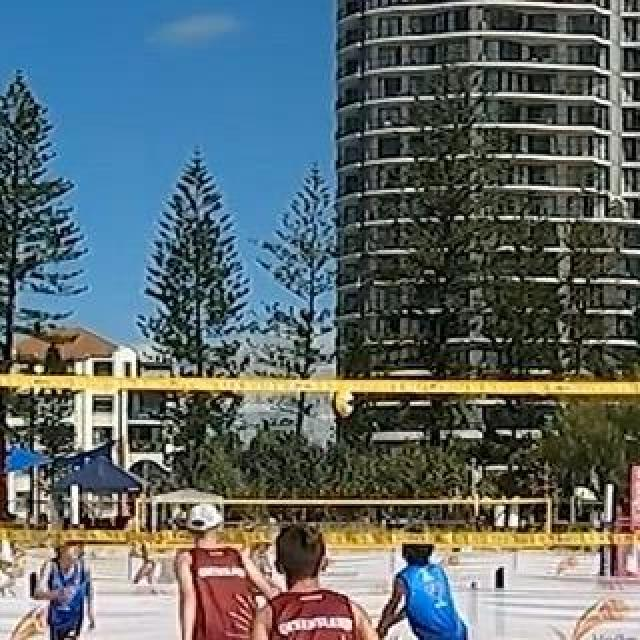volleyball: (333, 397, 355, 419)
